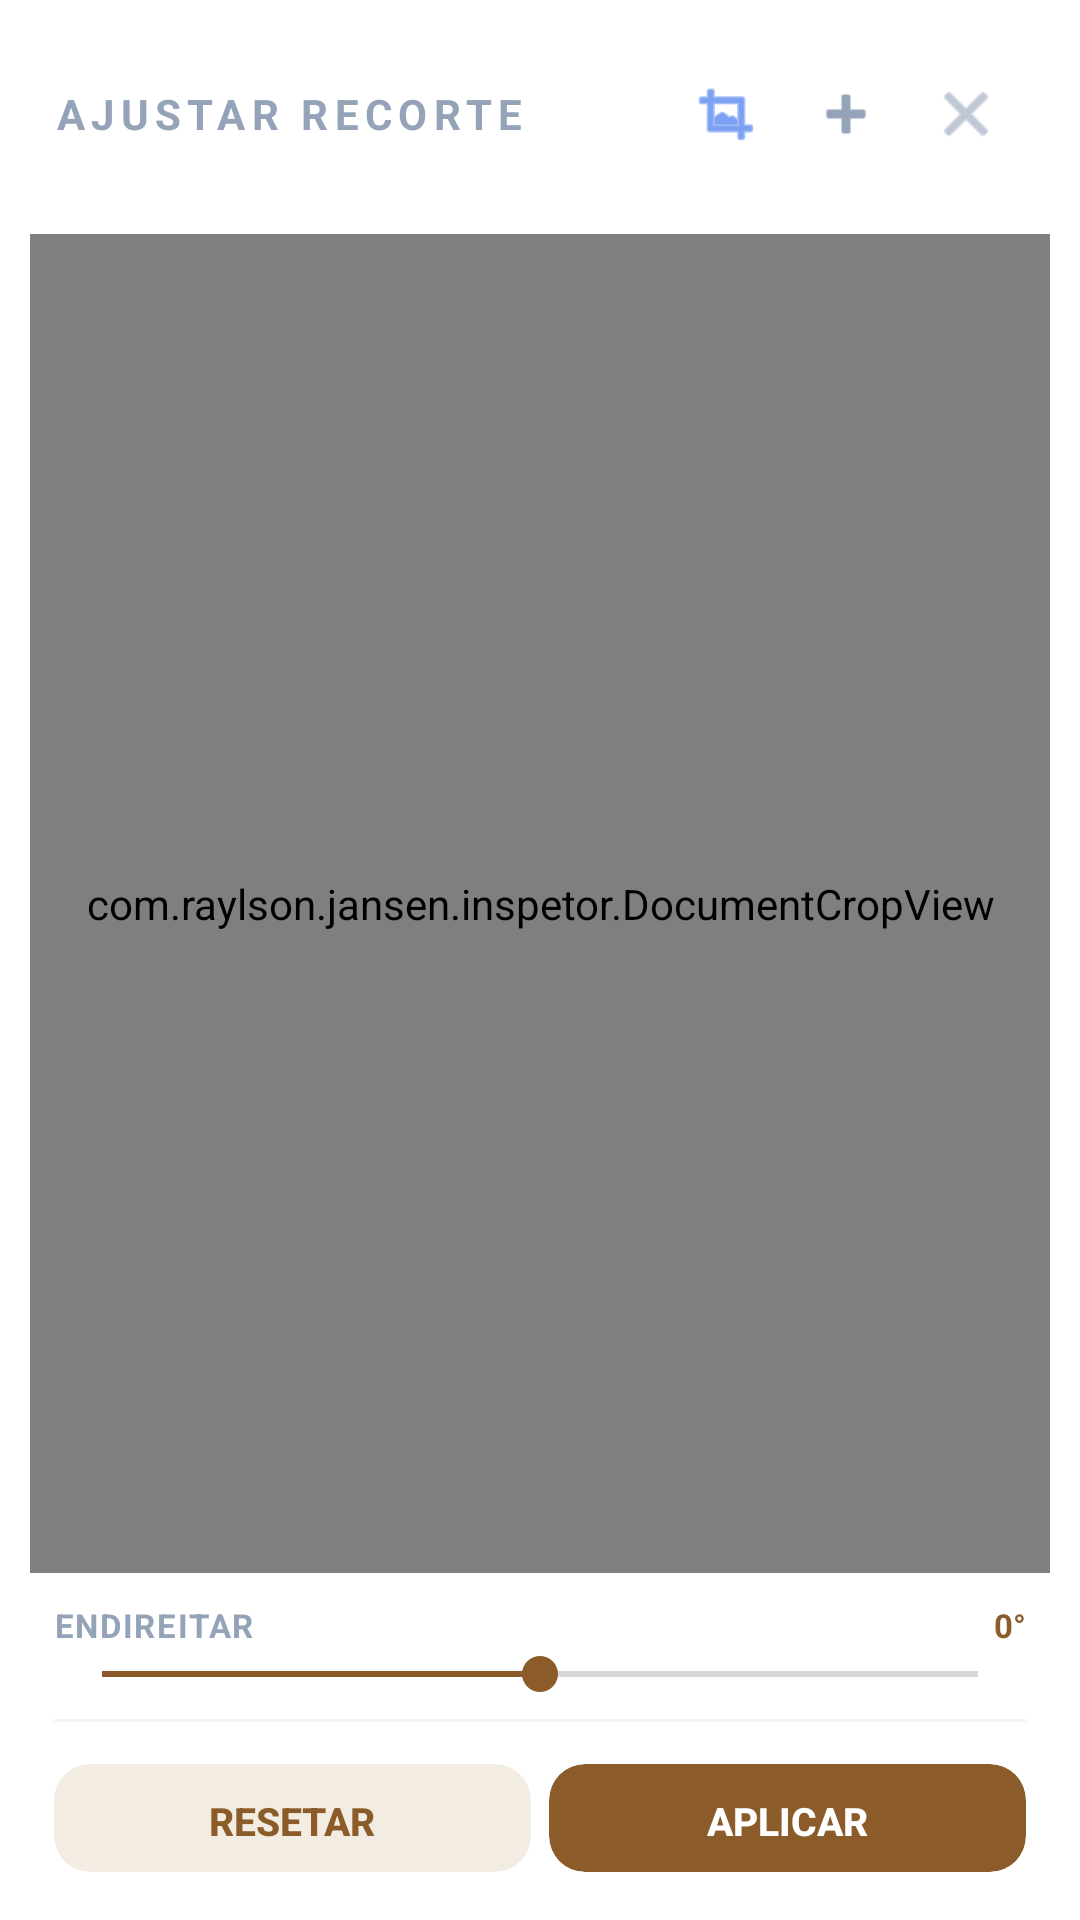

Named icons in this screenshot (1080 x 1920) and their bounding boxes, (x1, y1, x2, y2):
Cancelar: (944, 92, 988, 136)
Detectar borda automaticamente: (699, 88, 753, 140)
Modo tocar para marcar: (826, 94, 866, 134)
